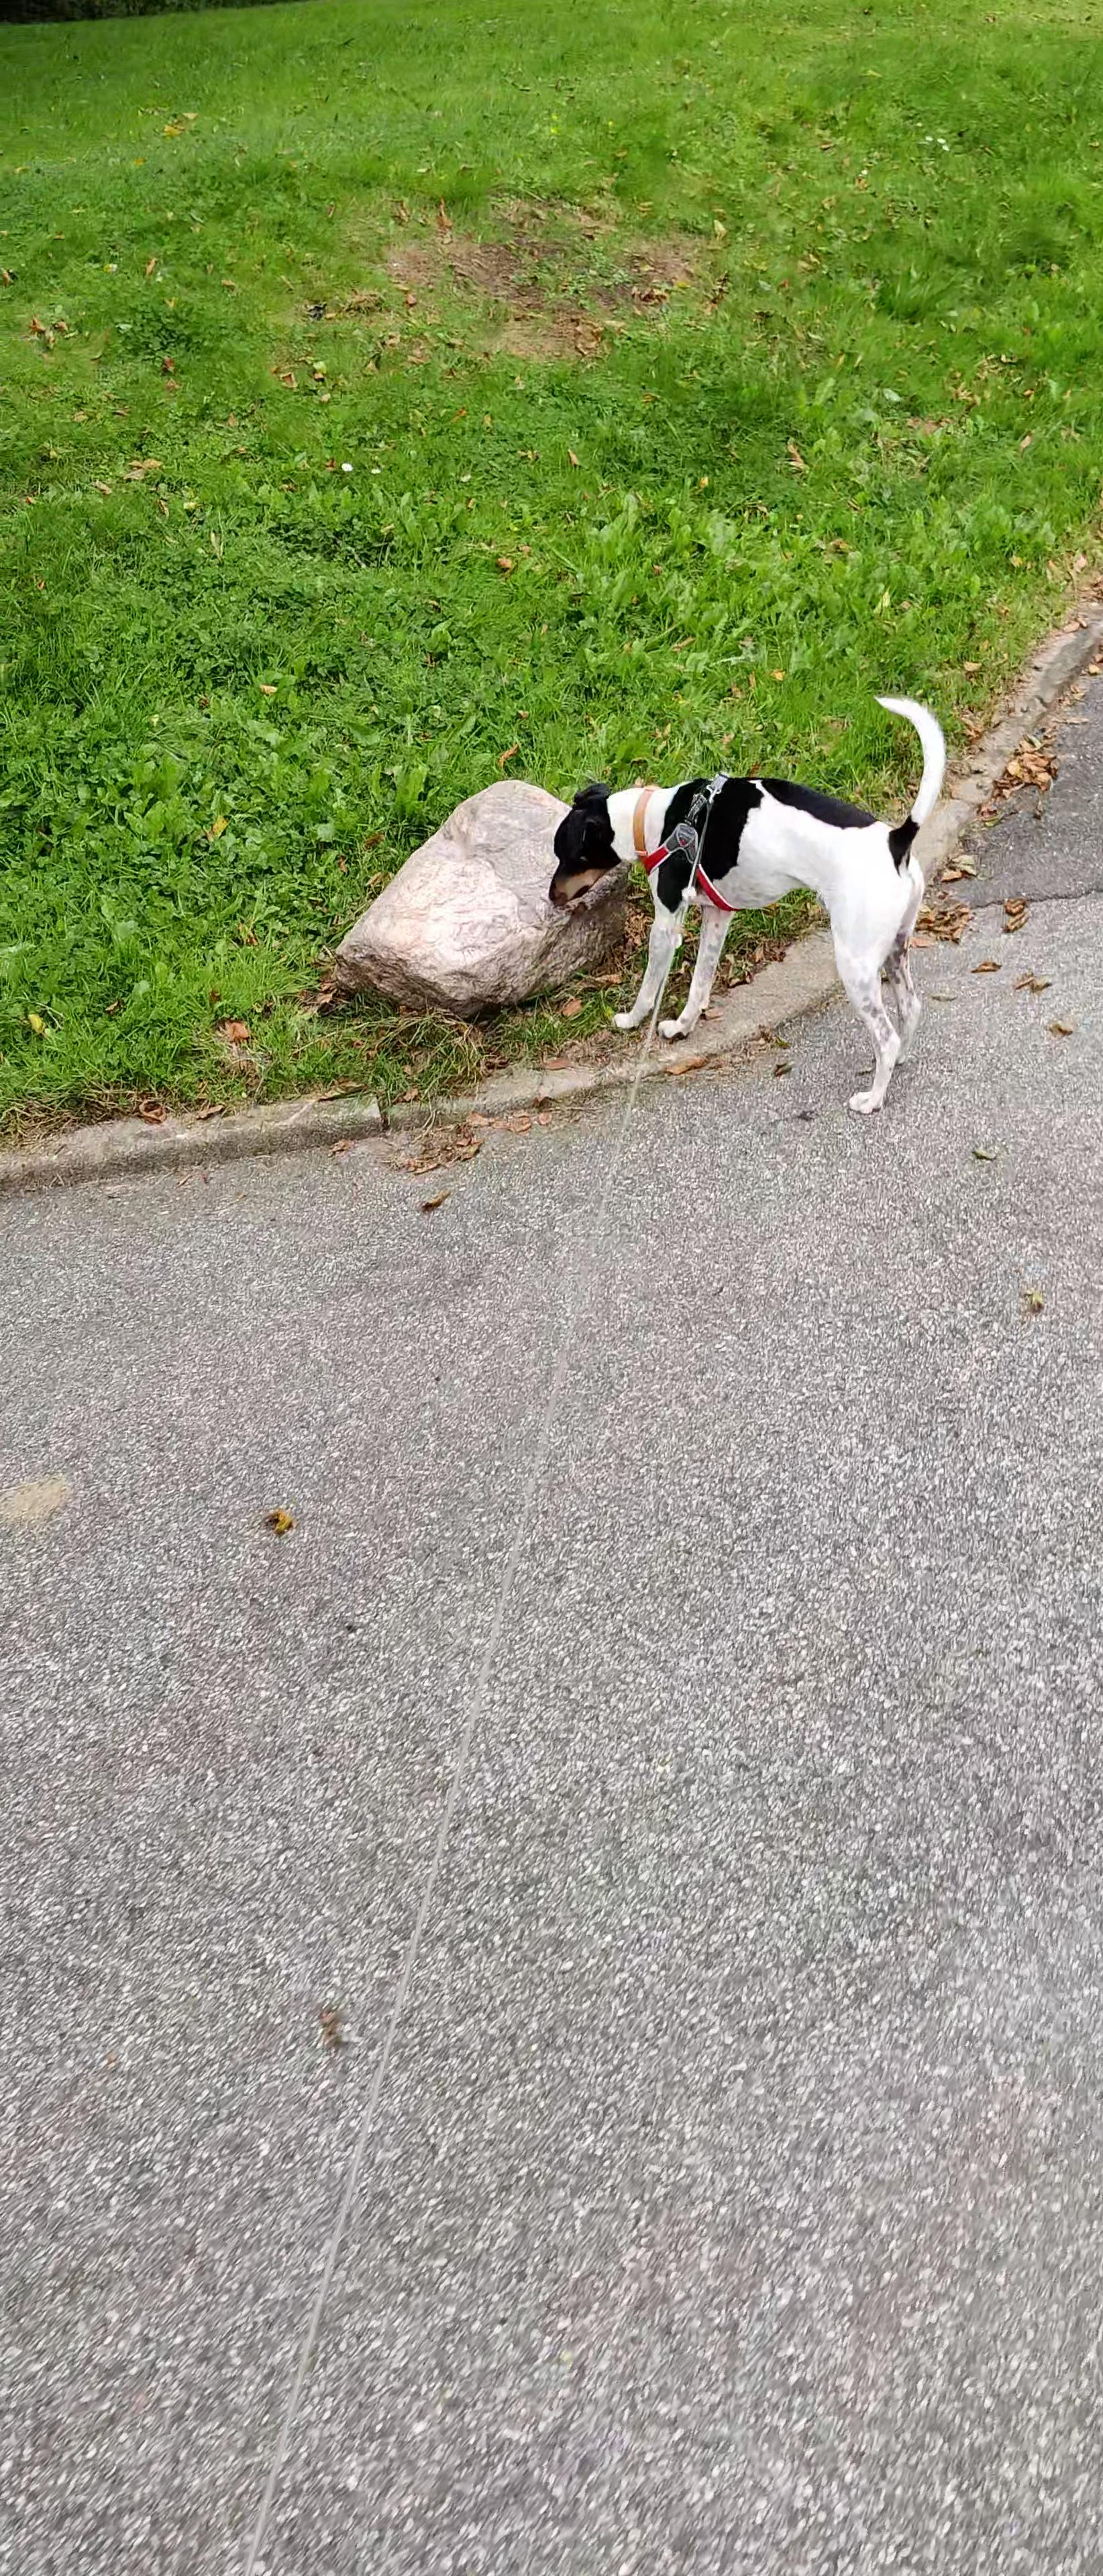Dog: (544, 688, 952, 1115)
